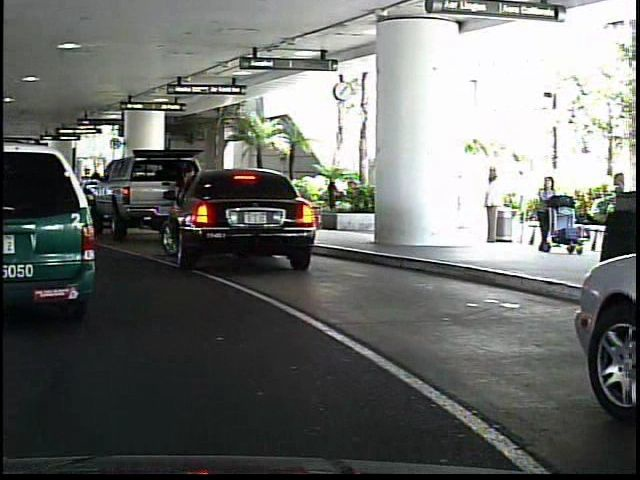person: (531, 172, 558, 257)
